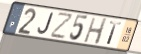2: (17, 7, 38, 36)
5: (68, 14, 90, 42)
H: (83, 17, 109, 47)
J: (36, 12, 54, 36)
T: (106, 21, 123, 47)
Z: (49, 12, 75, 40)
